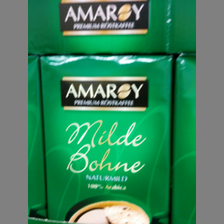coffee: (39, 54, 174, 224)
